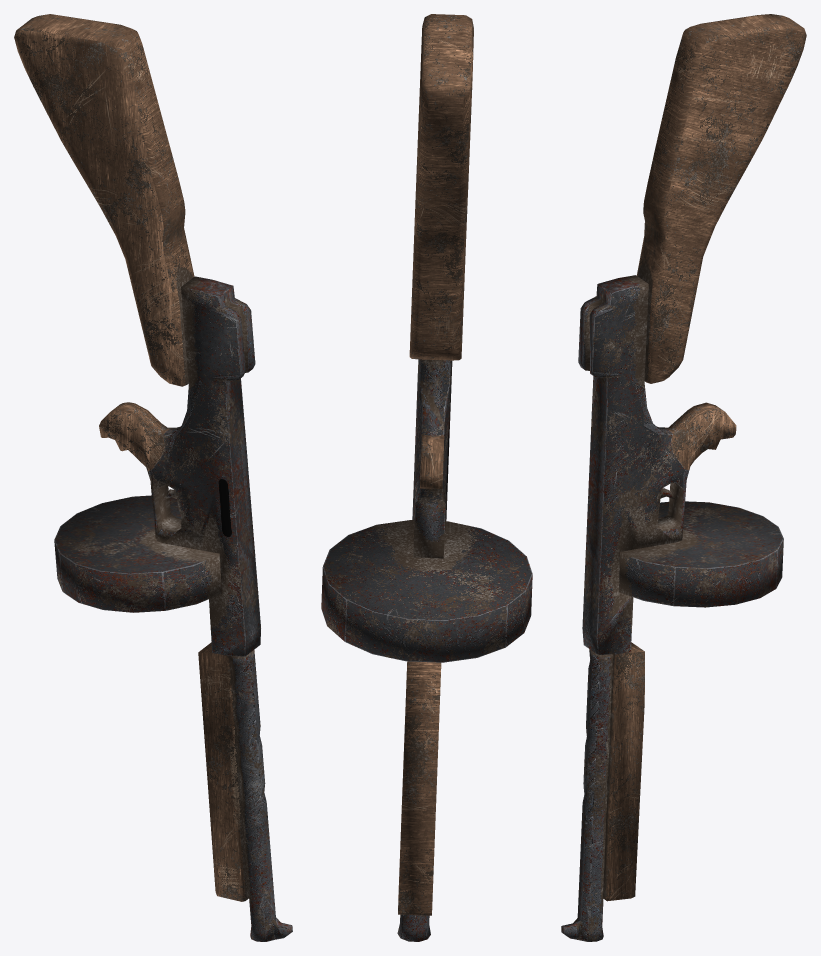
Rendered from Anim_disparar_ametralladora_objetos.0039.obj.
The picture shows the model from 3 angles, left to right: view 1: azimuth 30°, elevation 25°; view 2: azimuth 150°, elevation 25°; view 3: azimuth 270°, elevation 25°; orthographic projection. The views are drawn at different scales.
Visible parts, largest first — view 1: Ametralladora1; view 2: Ametralladora1; view 3: Ametralladora1.
Part boxes in pixels (bbox=[...]): Ametralladora1: bbox=[14, 14, 292, 941]; Ametralladora1: bbox=[321, 14, 532, 941]; Ametralladora1: bbox=[561, 14, 806, 941].
Size of the model in its own units: 1.18 by 5.96 by 1.53.
